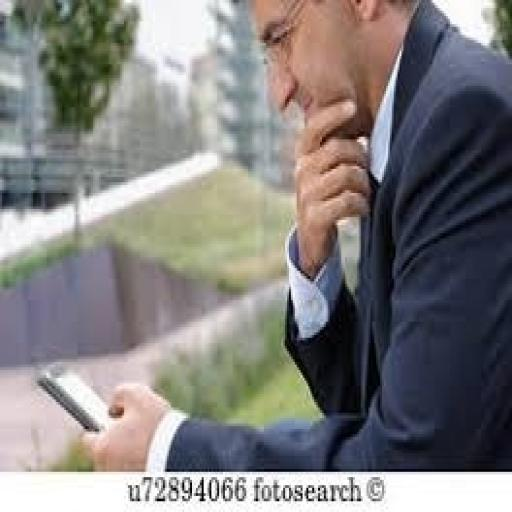texting: (80, 0, 510, 472)
